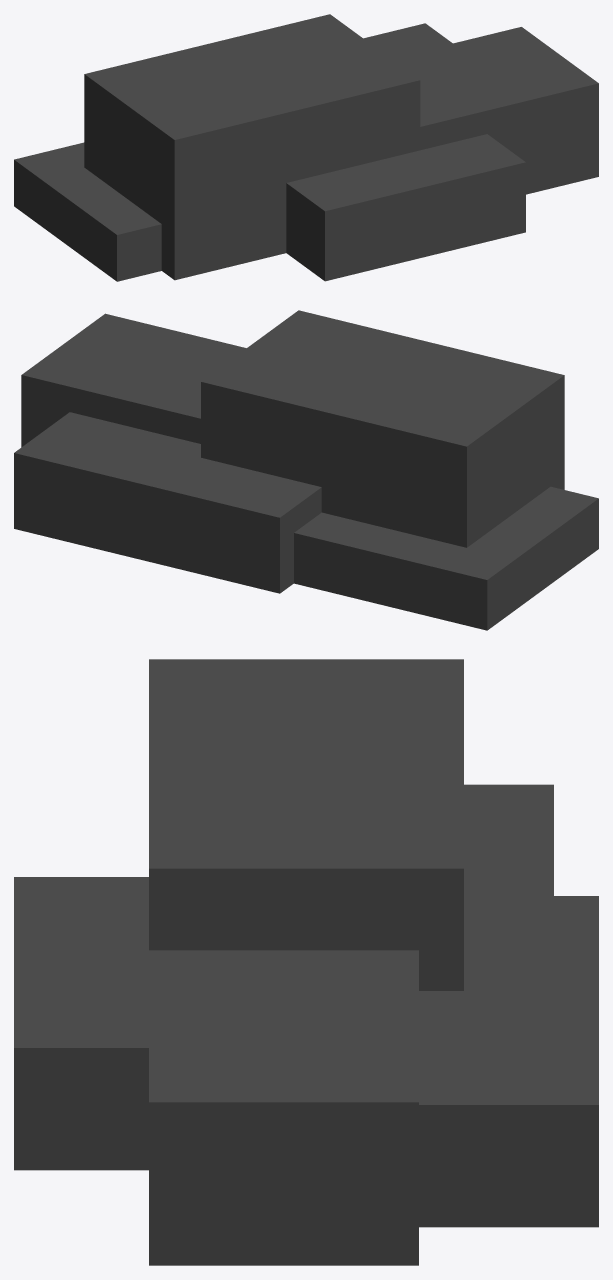
File: Cloud1.obj
The picture shows the model from 3 angles, top to bottom: view 1: azimuth 30°, elevation 25°; view 2: azimuth 150°, elevation 25°; view 3: azimuth 270°, elevation 25°; orthographic projection. The views are drawn at different scales.
Bounding box in the file's own units: 2.1 × 0.6 × 1.3.
